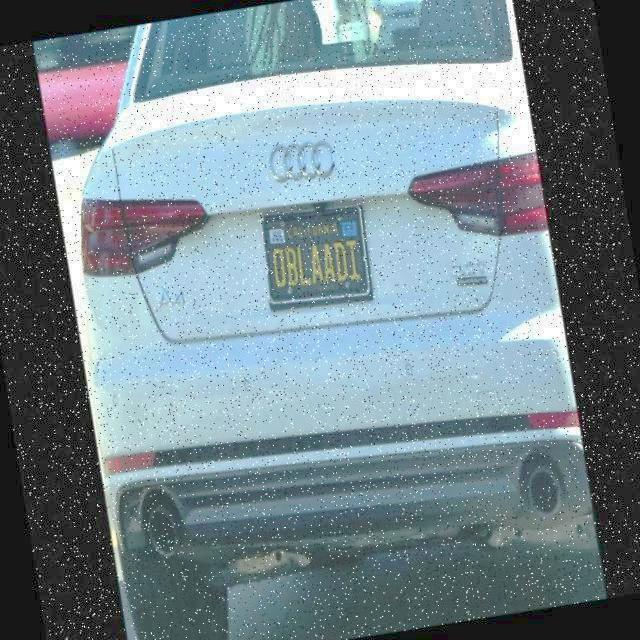license_plate: (263, 206, 374, 307)
